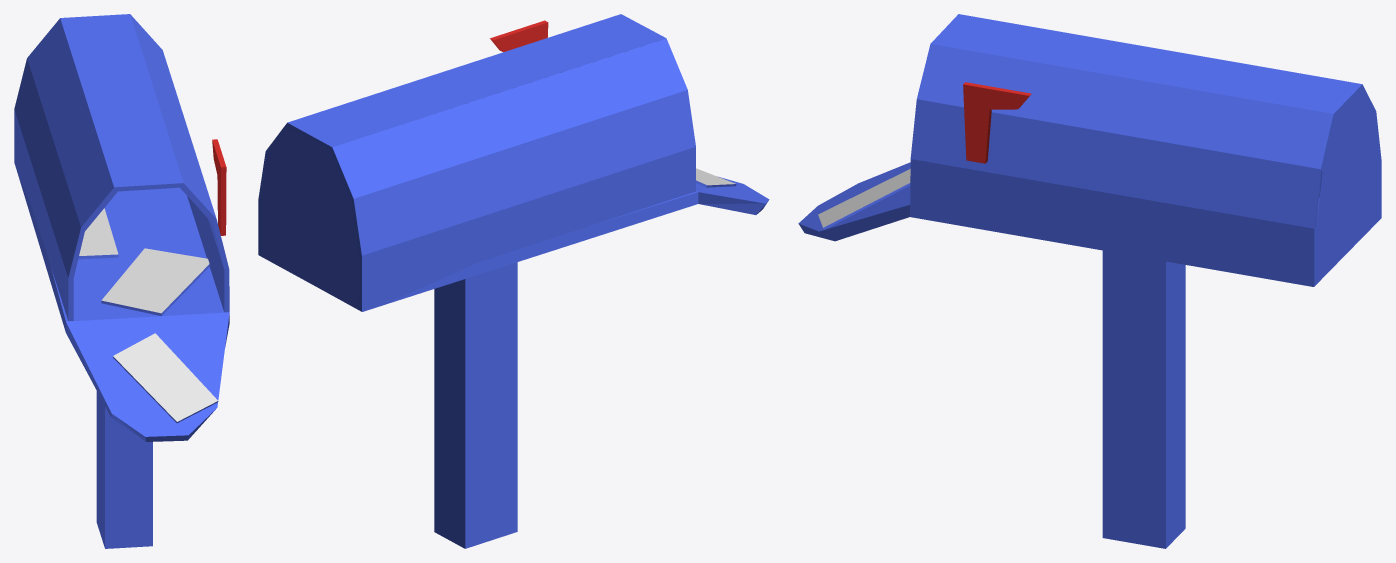
File: mailbox.glb
The picture shows the model from 3 angles, left to right: view 1: azimuth 30°, elevation 25°; view 2: azimuth 150°, elevation 25°; view 3: azimuth 270°, elevation 25°; orthographic projection. The views are drawn at different scales.
Visible parts, largest first — view 1: Cube.002, Cube.001, Base, Cube.003; view 2: Cube.002, Base, Cube.001, Cube.003; view 3: Cube.002, Base, Cube.001, Cube.003.
Part boxes in pixels (x1,y1,x2,y2): Cube.002: [14, 14, 229, 320]; Cube.001: [18, 176, 229, 441]; Base: [96, 391, 152, 548]; Cube.003: [212, 139, 226, 235]; Cube.002: [258, 14, 695, 311]; Base: [434, 262, 517, 548]; Cube.001: [259, 168, 769, 311]; Cube.003: [490, 20, 548, 51]; Cube.002: [910, 14, 1381, 286]; Base: [1102, 250, 1185, 548]; Cube.001: [798, 162, 1321, 286]; Cube.003: [963, 82, 1031, 163].
Size of the model in its own units: 2.76 by 4.17 by 4.7.
